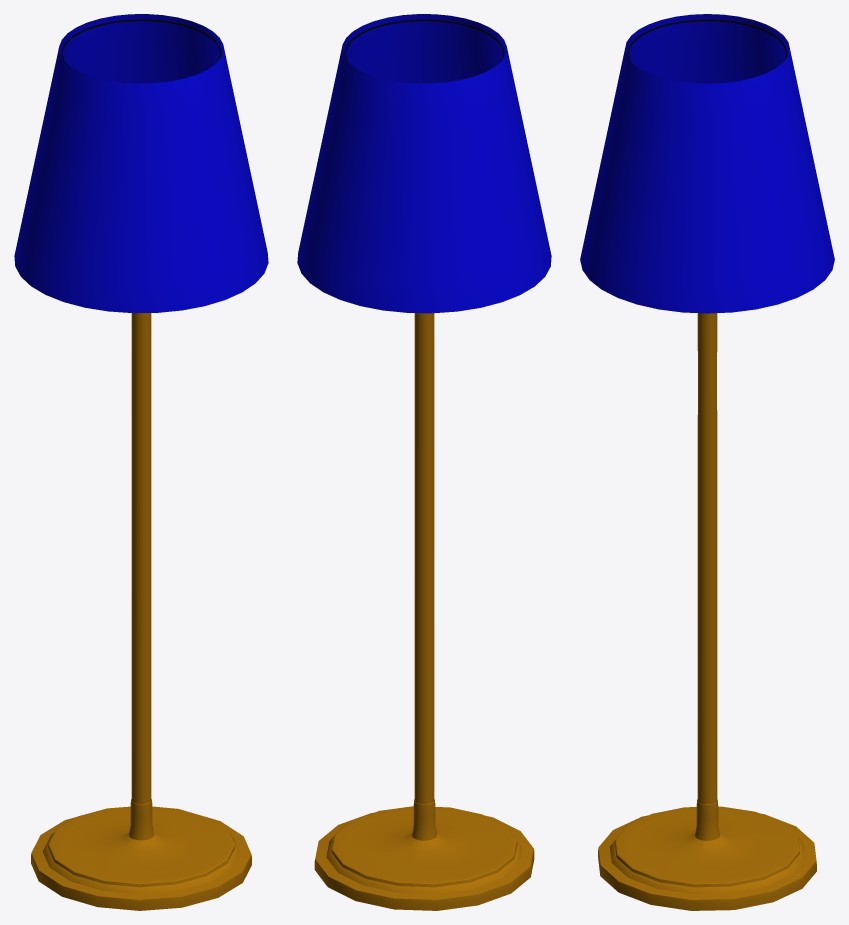
The model's file is Abajur.fbx.
3 views of the same model, side by side, from view 1: azimuth 30°, elevation 25°; view 2: azimuth 150°, elevation 25°; view 3: azimuth 270°, elevation 25° (orthographic).
Visible parts, largest first — view 1: Circle.006; view 2: Circle.006; view 3: Circle.006.
Part boxes in pixels (x1,y1,x2,y2): Circle.006: [14, 14, 268, 910]; Circle.006: [297, 14, 551, 910]; Circle.006: [580, 14, 834, 910].
Size of the model in its own units: 52.34 by 185 by 52.34.
